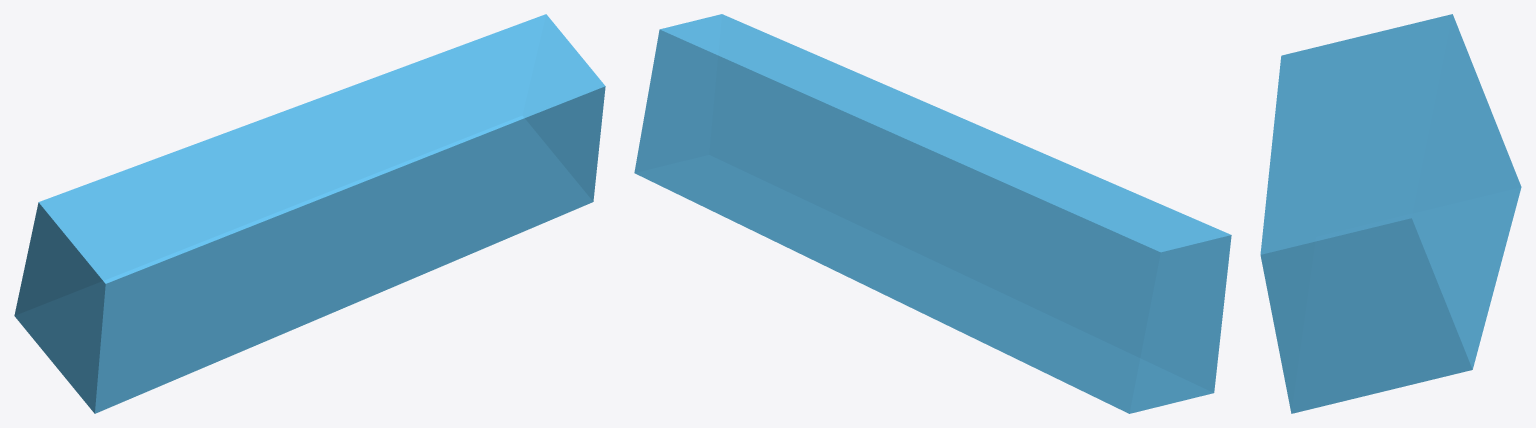
Rendered from Event_421364160_HErechit_3.fbx.
3 views of the same model, side by side, from view 1: azimuth 30°, elevation 25°; view 2: azimuth 150°, elevation 25°; view 3: azimuth 270°, elevation 25° (orthographic). The views are drawn at different scales.
Visible parts, largest first — view 1: Model; view 2: Model; view 3: Model.
Boxes of the visible parts, x1,y1,x2,y2 form: Model: (14, 14, 605, 413); Model: (634, 14, 1231, 413); Model: (1260, 14, 1521, 413).
Size of the model in its own units: 1.36 by 0.667 by 0.4884.
